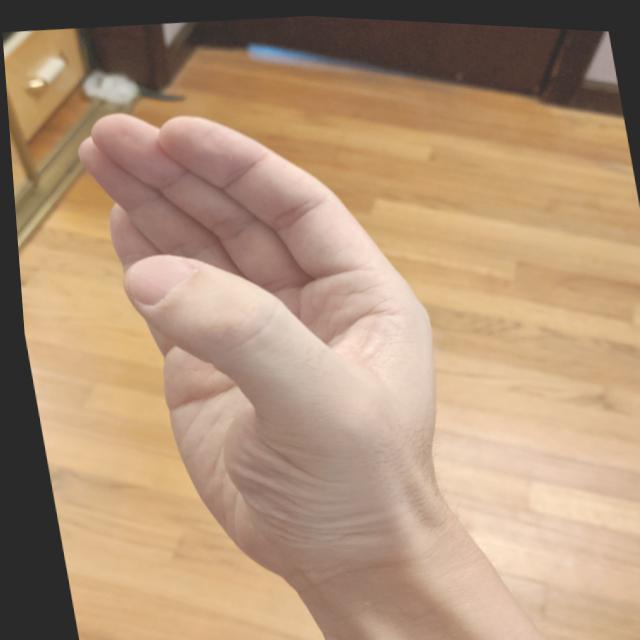C: (47, 69, 485, 620)
